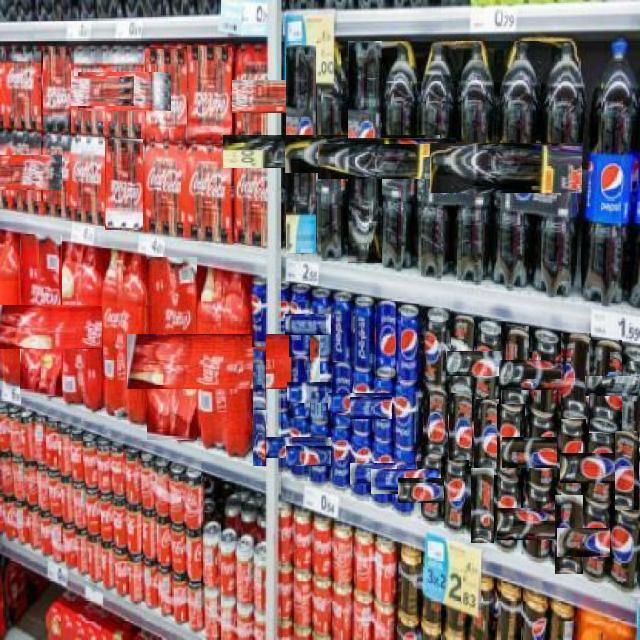Drinks: (582, 37, 639, 304), (495, 42, 539, 289), (430, 142, 640, 193), (127, 334, 320, 389), (456, 42, 496, 283), (146, 256, 197, 440), (319, 144, 552, 179), (286, 138, 513, 173), (102, 249, 146, 427), (347, 40, 382, 263), (0, 305, 167, 349), (224, 134, 440, 168), (19, 233, 62, 396), (285, 44, 316, 253), (186, 44, 232, 144), (186, 146, 232, 243), (144, 46, 187, 143), (143, 141, 186, 236), (77, 72, 171, 111), (199, 79, 303, 113), (105, 138, 143, 230), (234, 149, 268, 246), (588, 339, 622, 433), (4, 44, 41, 128), (71, 135, 105, 226), (560, 333, 591, 425), (43, 75, 134, 106), (499, 359, 590, 390), (40, 134, 71, 218), (42, 45, 71, 132), (498, 508, 576, 540), (560, 452, 640, 483), (502, 325, 529, 416), (610, 510, 639, 594), (502, 438, 581, 468), (557, 419, 586, 500), (557, 528, 638, 557), (554, 494, 583, 574), (446, 350, 532, 376), (0, 156, 62, 190), (424, 308, 450, 389), (498, 405, 525, 483), (615, 431, 639, 515), (473, 398, 499, 475), (494, 477, 520, 554), (450, 315, 474, 398), (470, 468, 494, 543), (396, 305, 419, 383), (448, 392, 472, 466), (445, 460, 469, 534), (422, 389, 448, 456), (398, 478, 467, 503), (371, 469, 439, 494), (393, 381, 417, 450), (375, 300, 396, 378), (284, 314, 359, 335), (332, 292, 353, 366), (355, 296, 375, 373), (289, 285, 310, 357), (331, 362, 352, 429), (328, 392, 395, 413), (351, 433, 372, 500), (349, 398, 416, 419), (349, 464, 416, 485), (266, 437, 331, 458), (288, 382, 353, 403), (287, 445, 352, 466), (290, 354, 310, 418), (331, 429, 351, 493), (586, 375, 640, 396), (252, 276, 266, 347), (252, 348, 266, 417), (252, 409, 266, 466)
